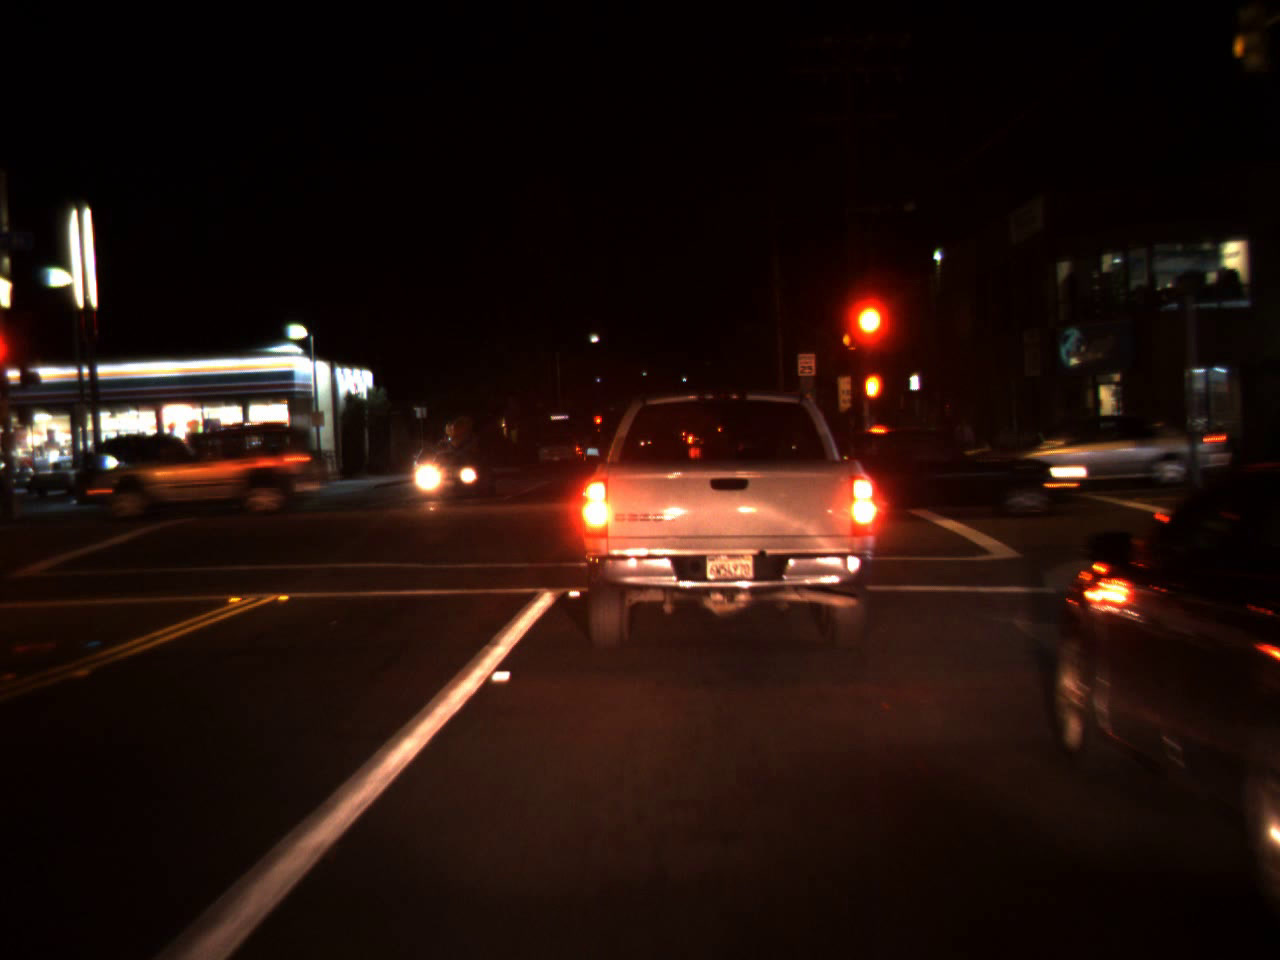stop: (850, 303, 886, 367), (592, 414, 604, 435)
